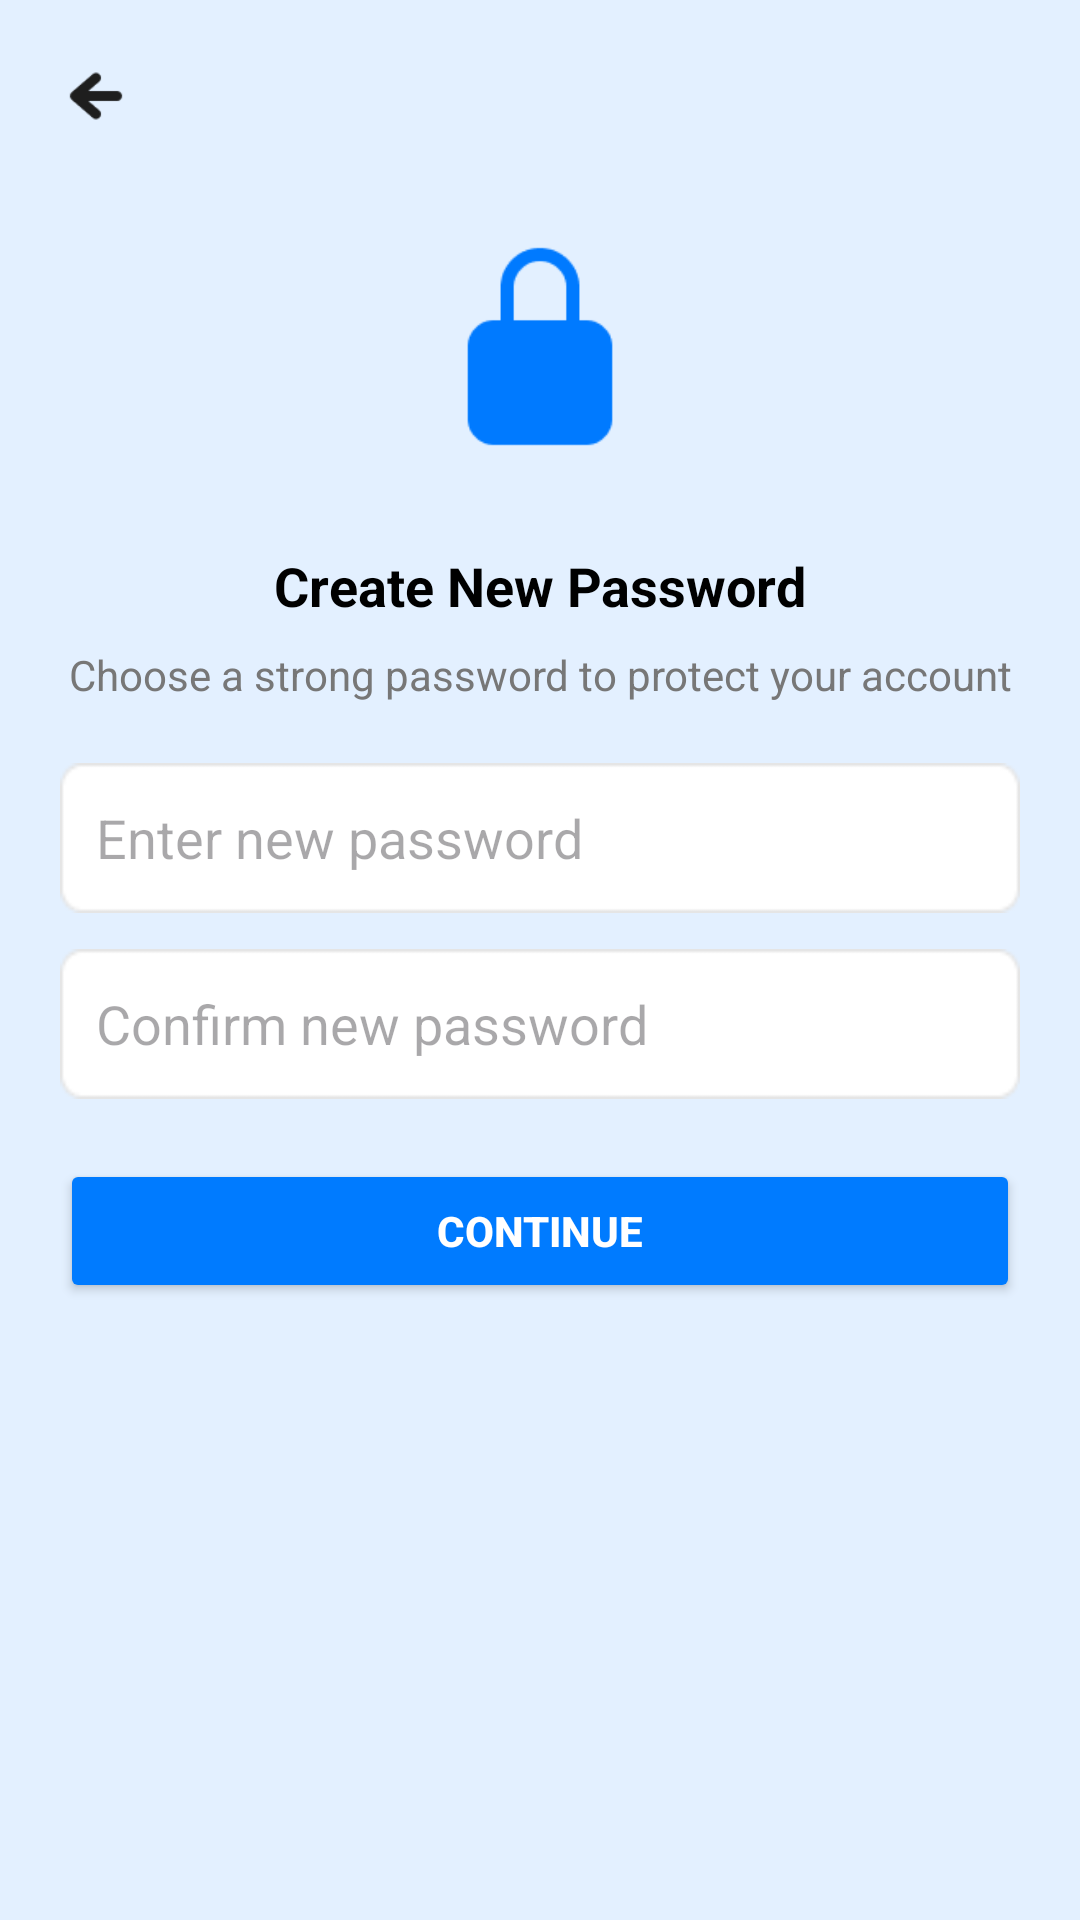

Icon bounding boxes for this 1080*1920 phone screenshot, format box=[x1, y1, x2, y2]:
Back: box=[69, 72, 123, 120]
lock: box=[467, 247, 613, 446]
